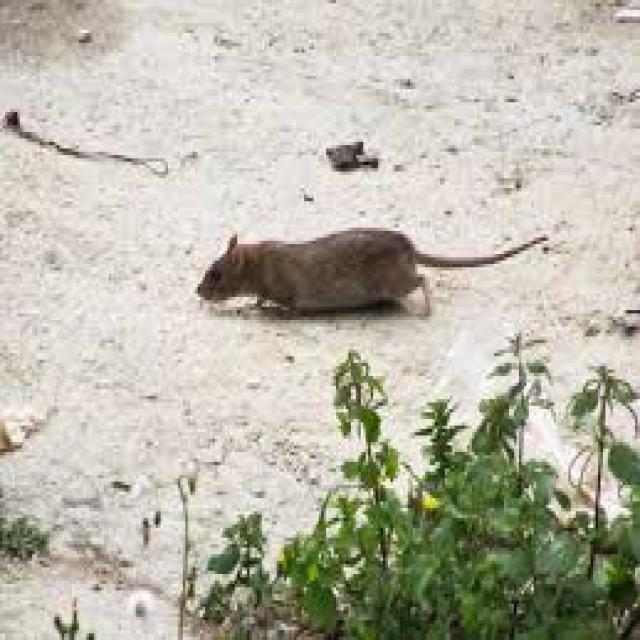Rat: (131, 179, 604, 349)
